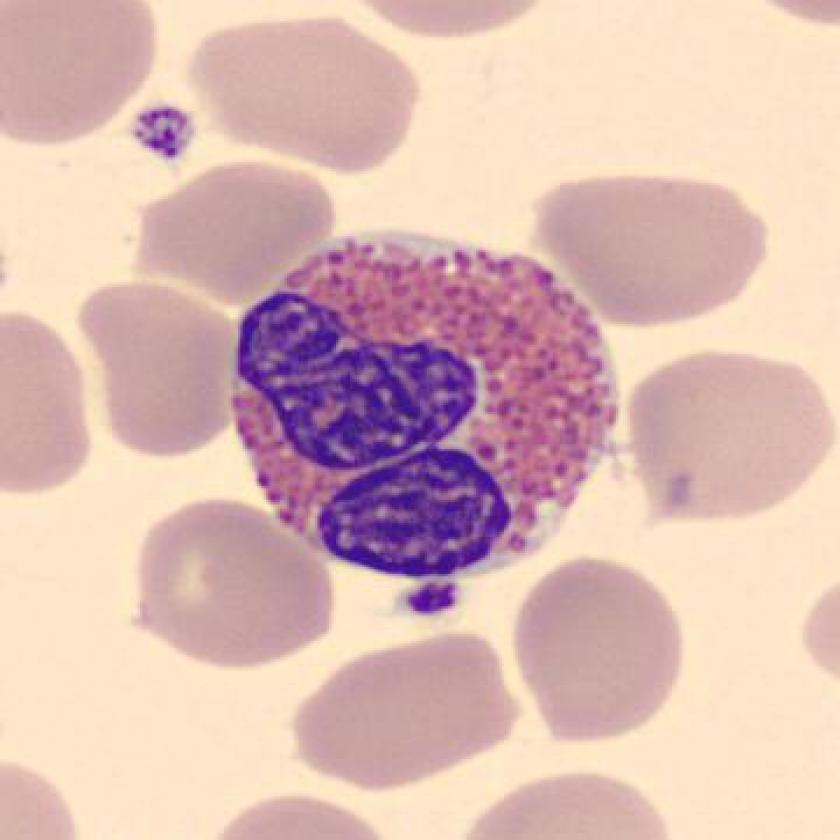eosinophil: (216, 219, 631, 591)
